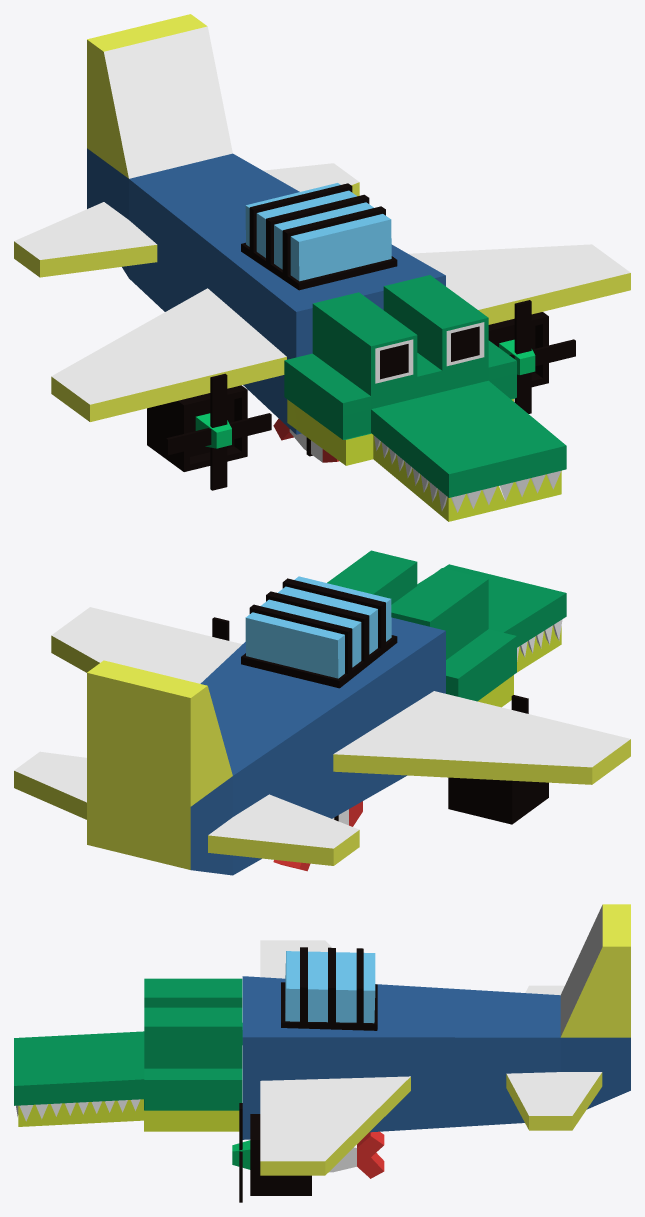
Rendered from Bombardino_Crocodilo.fbx.
3 renders of one model, top to bottom at view 1: azimuth 30°, elevation 25°; view 2: azimuth 150°, elevation 25°; view 3: azimuth 270°, elevation 25°, orthographic. The views are drawn at different scales.
Visible parts, largest first — view 1: Bombardino_Crocodilo; view 2: Bombardino_Crocodilo; view 3: Bombardino_Crocodilo.
Boxes of the visible parts, x1=… form: Bombardino_Crocodilo: x1=14, y1=14, x2=630, y2=521; Bombardino_Crocodilo: x1=14, y1=550, x2=630, y2=875; Bombardino_Crocodilo: x1=14, y1=904, x2=630, y2=1202.
Bounding box in the file's own units: 1.48 × 0.7736 × 1.74.
